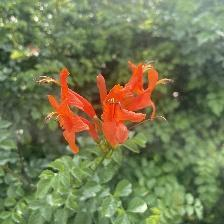honeysuckle: (37, 65, 98, 157)
